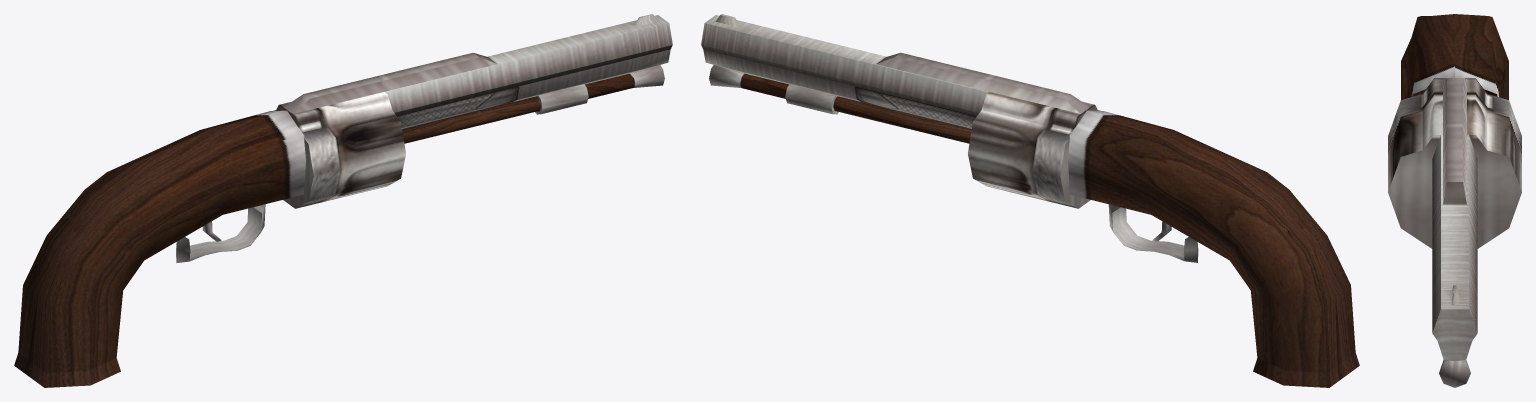
The model's file is flintlock.fbx.
The picture shows the model from 3 angles, left to right: view 1: azimuth 30°, elevation 25°; view 2: azimuth 150°, elevation 25°; view 3: azimuth 270°, elevation 25°; orthographic projection. The views are drawn at different scales.
Visible parts, largest first — view 1: Cube; view 2: Cube; view 3: Cube.
Part boxes in pixels (left/top/right/bottom): Cube: left=14, top=14, right=672, bottom=387; Cube: left=701, top=14, right=1359, bottom=387; Cube: left=1388, top=14, right=1521, bottom=387.
Size of the model in its own units: 92.73 by 29.71 by 13.51.
